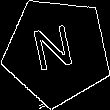N_S: (32, 22, 82, 80)
